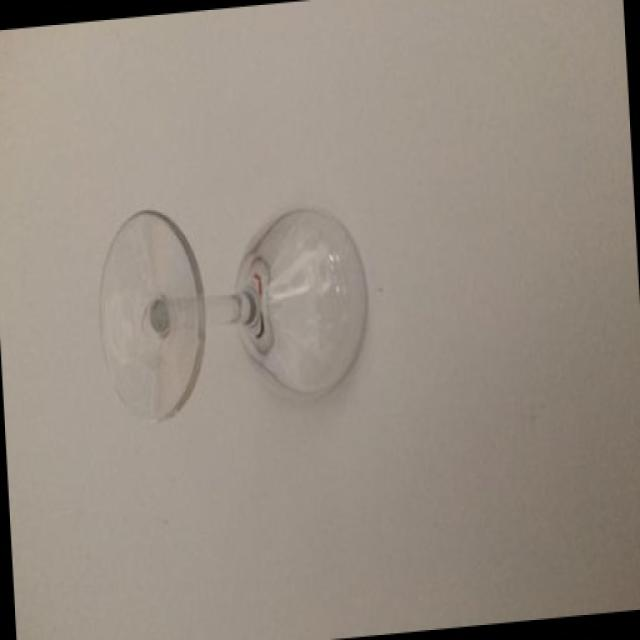vidrio: (82, 153, 416, 505)
